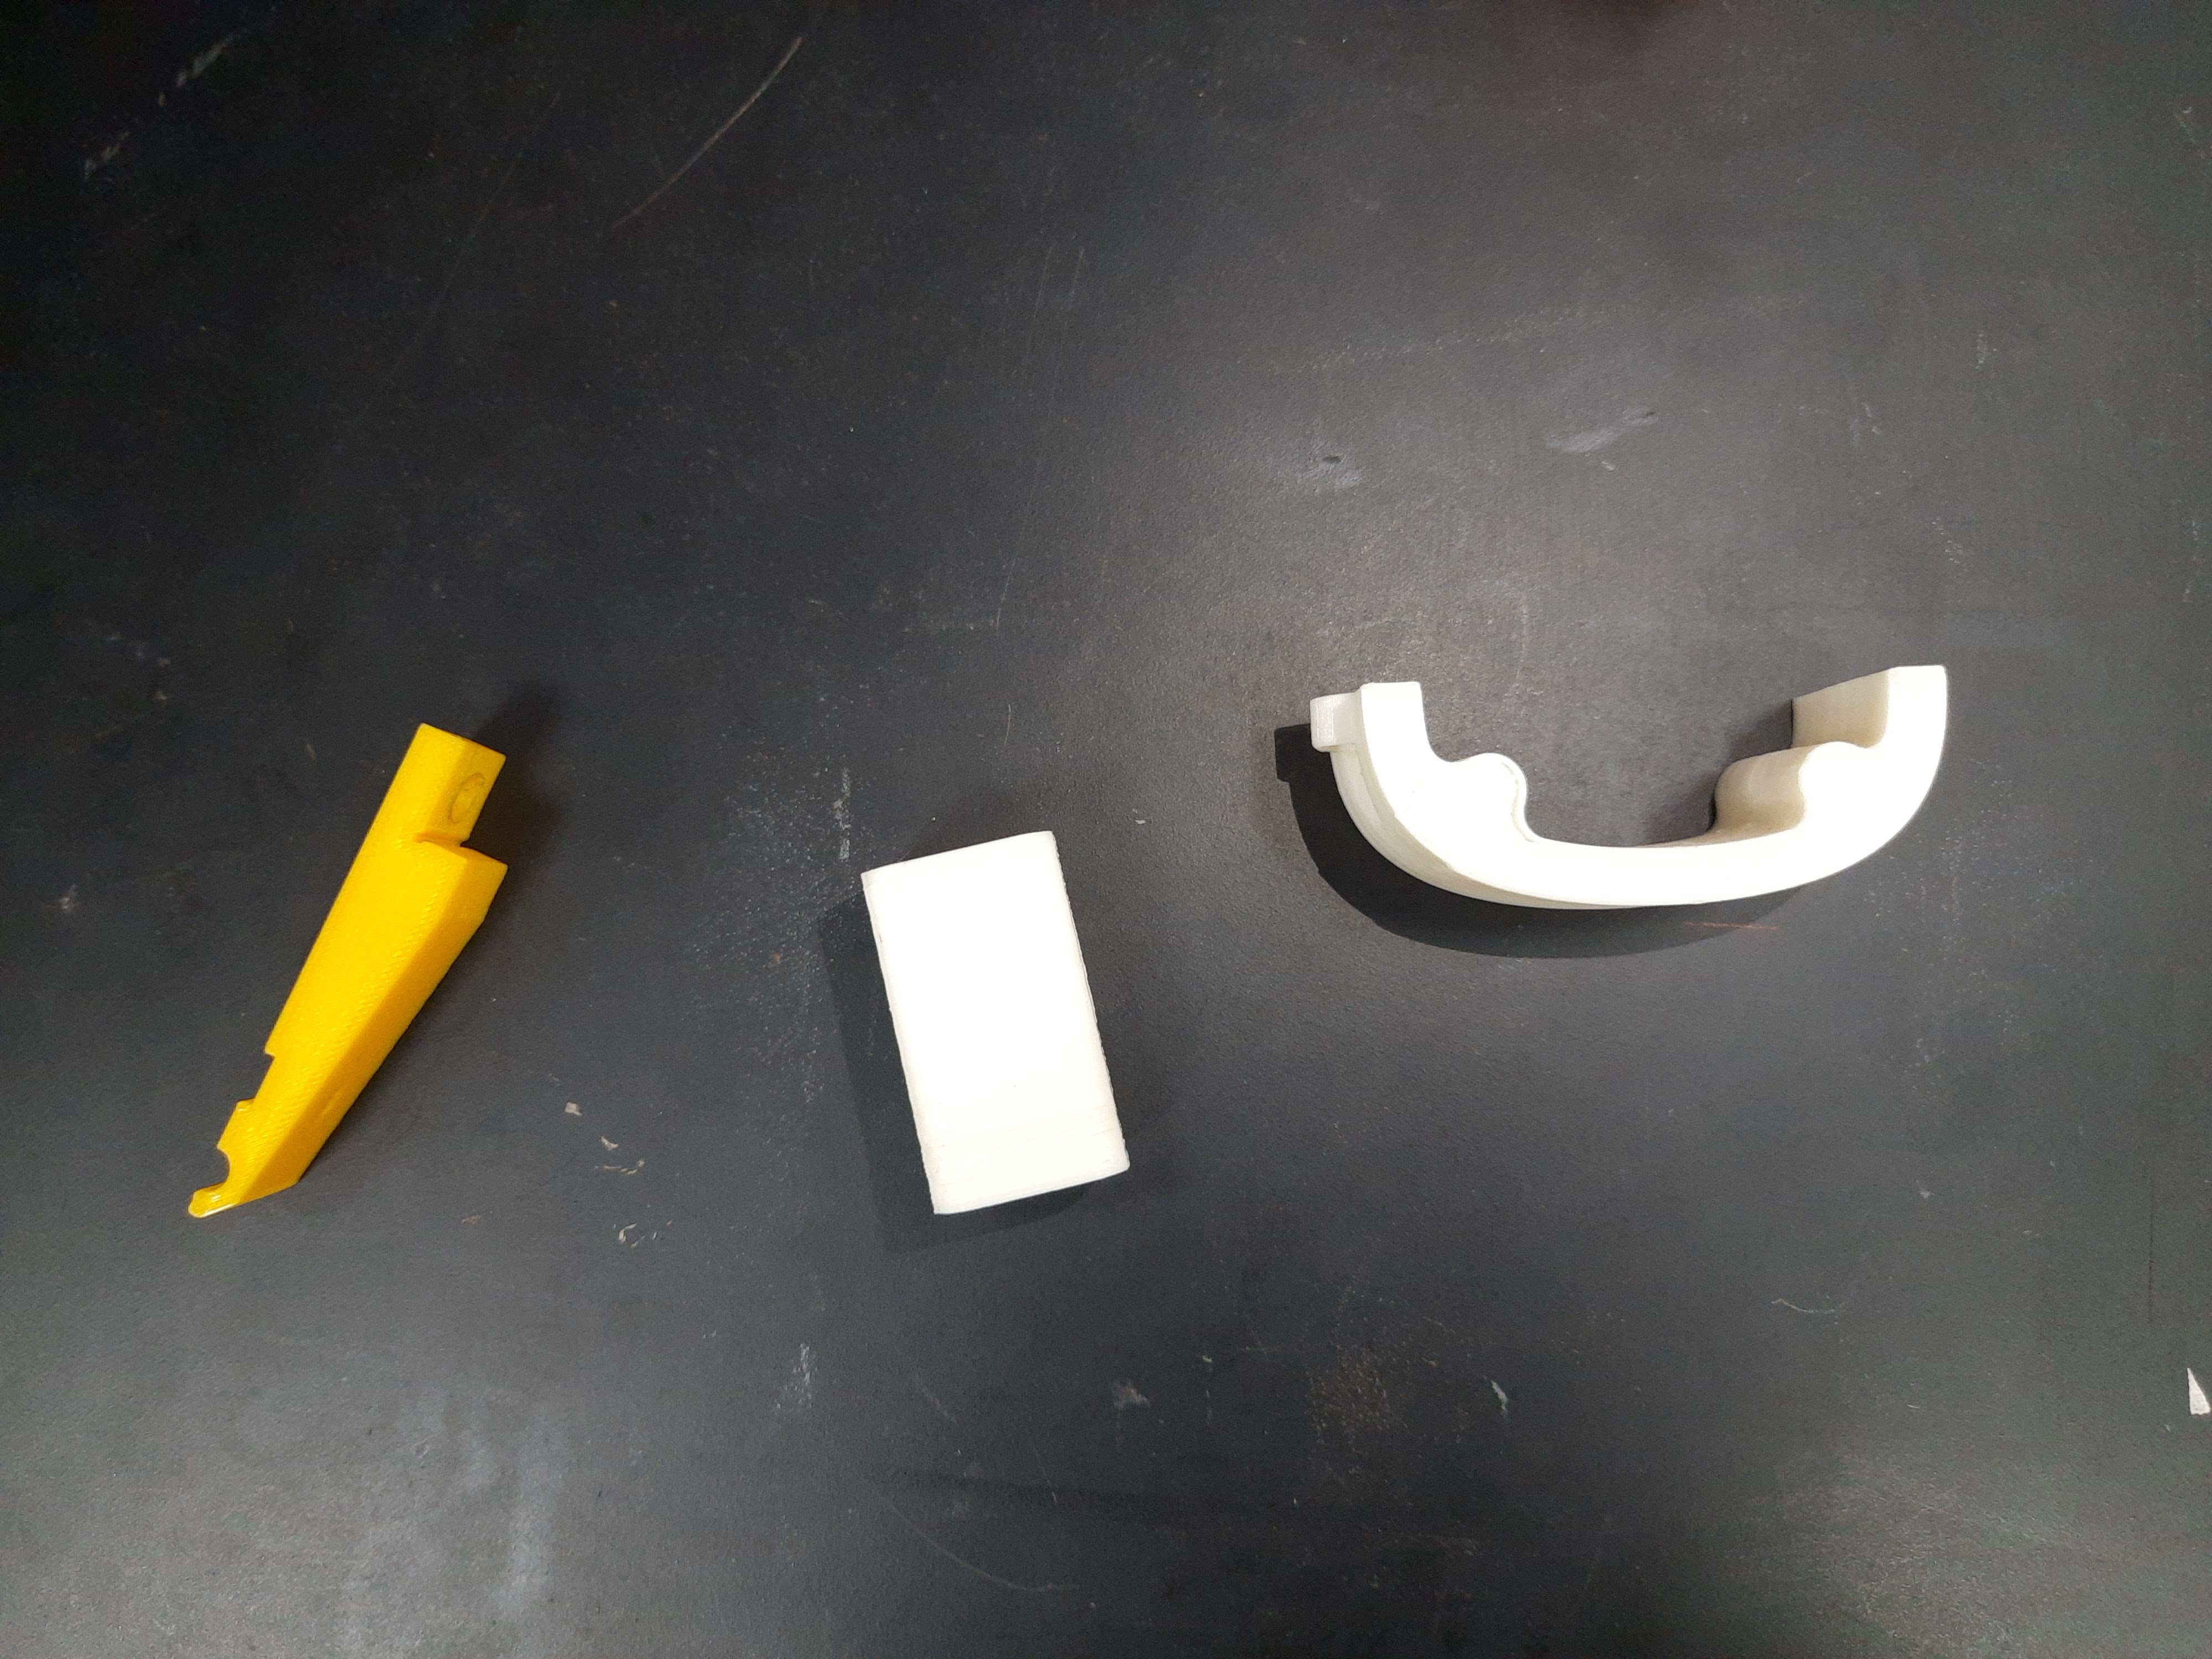ARC: (1294, 653, 1963, 918)
CUBE: (862, 831, 1127, 1213)
YELLOW: (193, 713, 549, 1258)
